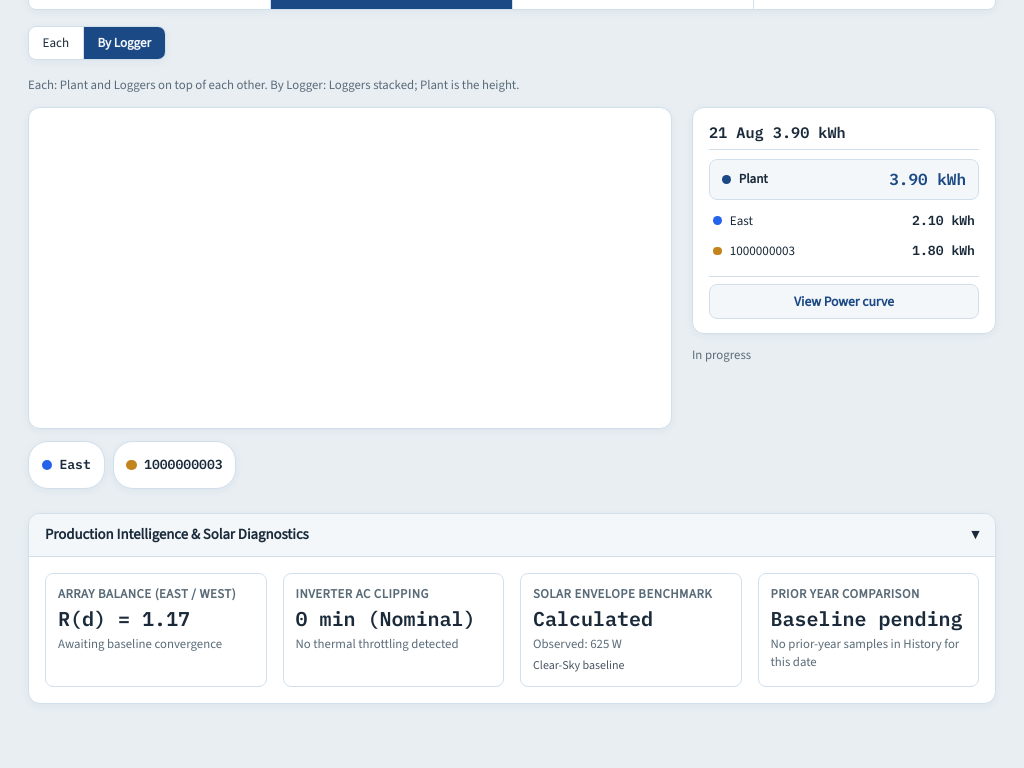
it: Plant view › hides a Logger across Stack Day bars when its toggle is off
(page scrolled)
expect the text "21 Aug 3.90 kWh" is shown: met, box x1=709 y1=122 x2=846 y2=143
Click the button "1000000003". click: (174, 465)
box: x1=113 y1=441 x2=236 y2=489
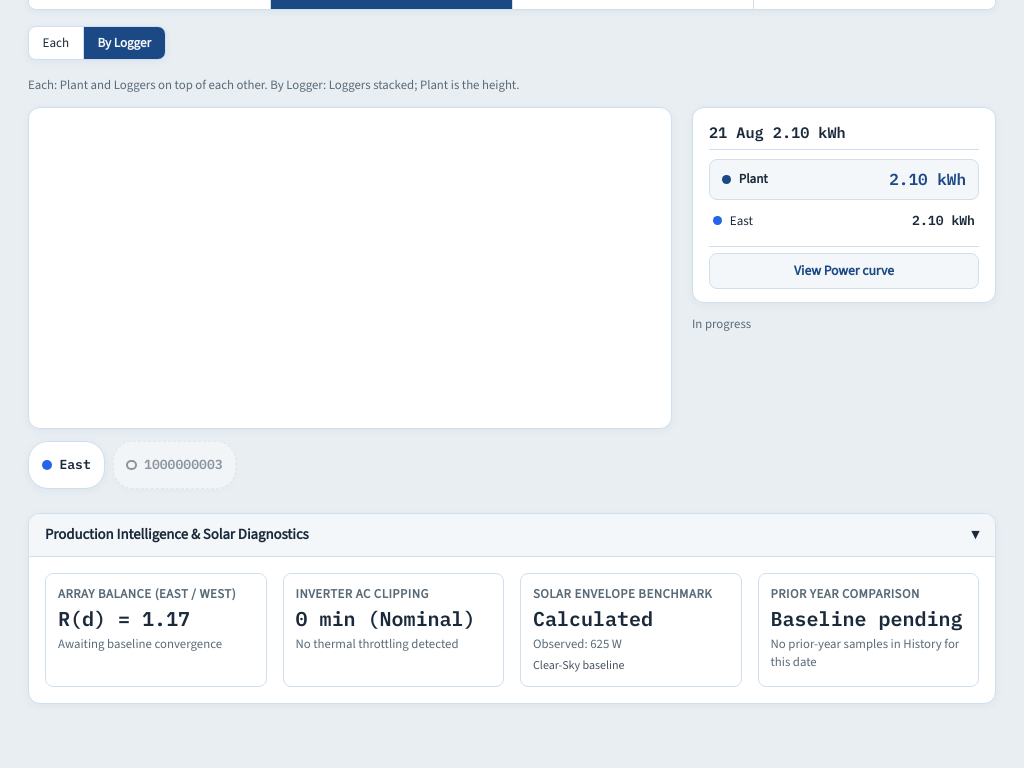
expect the text "21 Aug 2.10 kWh" is shown: met, box x1=709 y1=122 x2=846 y2=143
